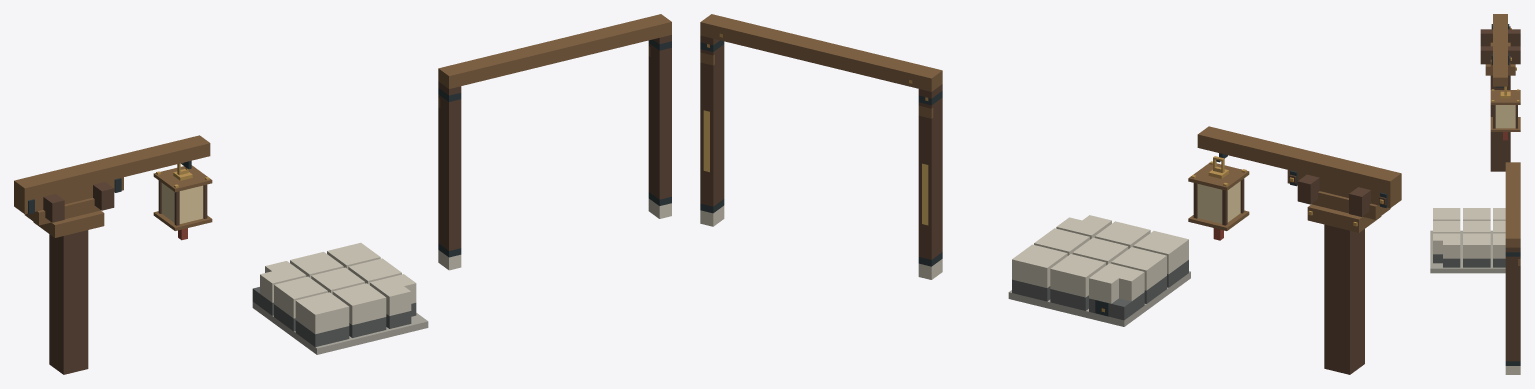
3 renders of one model, left to right at view 1: azimuth 30°, elevation 25°; view 2: azimuth 150°, elevation 25°; view 3: azimuth 270°, elevation 25°, orthographic. The views are drawn at different scales.
Visible parts, largest first — view 1: A1开敞木门框原模型待收件, 石基台边角与破边视觉模块, 柱梁与灯环实托钩，辅助安装试架, 精细体素梁端斗拱母版, 精细体素独立木纸灯笼母版A3; view 2: A1开敞木门框原模型待收件, 石基台边角与破边视觉模块, 柱梁与灯环实托钩，辅助安装试架, 精细体素梁端斗拱母版, 精细体素独立木纸灯笼母版A3; view 3: 石基台边角与破边视觉模块, A1开敞木门框原模型待收件, 柱梁与灯环实托钩，辅助安装试架, 精细体素独立木纸灯笼母版A3, 精细体素梁端斗拱母版.
Part boxes in pixels (x1=…): A1开敞木门框原模型待收件: x1=438, y1=14, x2=671, y2=270; 石基台边角与破边视觉模块: x1=252, y1=242, x2=428, y2=354; 柱梁与灯环实托钩，辅助安装试架: x1=14, y1=135, x2=210, y2=374; 精细体素梁端斗拱母版: x1=14, y1=177, x2=123, y2=245; 精细体素独立木纸灯笼母版A3: x1=153, y1=163, x2=212, y2=240; A1开敞木门框原模型待收件: x1=700, y1=14, x2=942, y2=279; 石基台边角与破边视觉模块: x1=1008, y1=215, x2=1190, y2=326; 柱梁与灯环实托钩，辅助安装试架: x1=1197, y1=126, x2=1401, y2=374; 精细体素梁端斗拱母版: x1=1287, y1=170, x2=1401, y2=240; 精细体素独立木纸灯笼母版A3: x1=1188, y1=156, x2=1249, y2=240; 石基台边角与破边视觉模块: x1=1430, y1=208, x2=1505, y2=273; A1开敞木门框原模型待收件: x1=1505, y1=162, x2=1520, y2=374; 柱梁与灯环实托钩，辅助安装试架: x1=1490, y1=14, x2=1510, y2=171; 精细体素独立木纸灯笼母版A3: x1=1490, y1=86, x2=1520, y2=140; 精细体素梁端斗拱母版: x1=1480, y1=24, x2=1520, y2=80.
Size of the model in its own units: 10.6 by 3 by 1.8.
10 materials, 10 textured.
